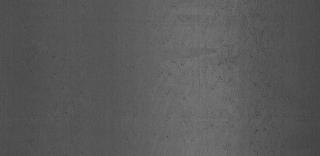silk spot: (154, 41, 280, 135), (198, 10, 274, 40)
